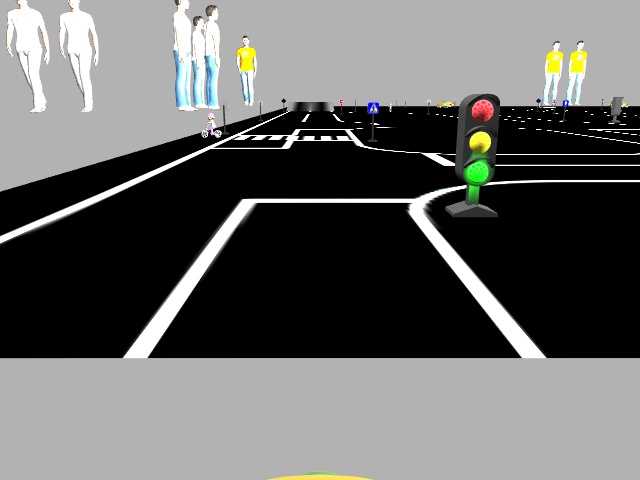Crosswalk: (367, 101, 378, 113)
Pedestrian: (201, 111, 222, 138)
TrafficLight: (456, 93, 499, 189)
